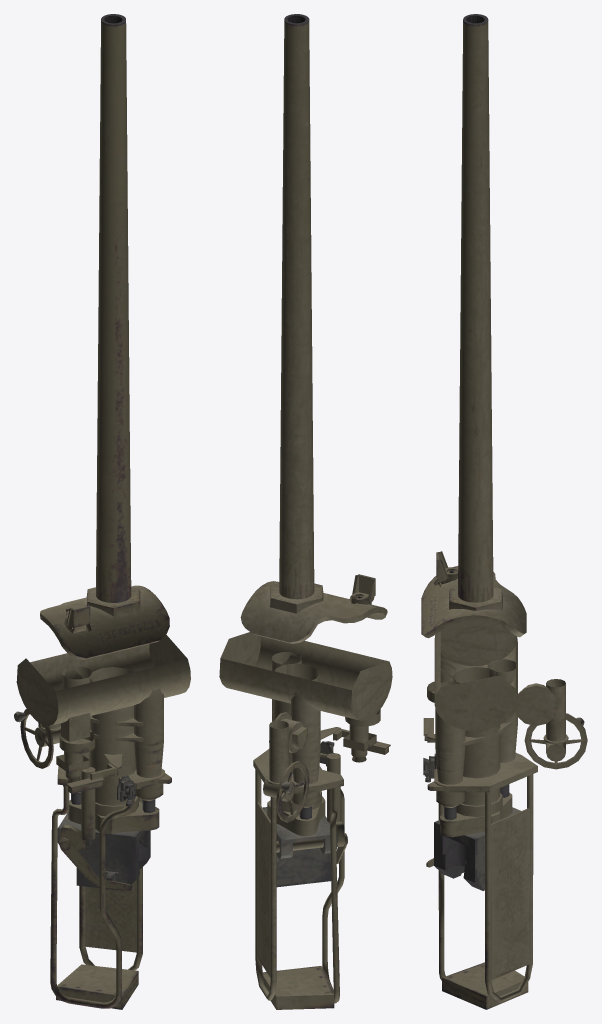
Rendered from Gun_02.glb.
3 renders of one model, left to right at view 1: azimuth 30°, elevation 25°; view 2: azimuth 150°, elevation 25°; view 3: azimuth 270°, elevation 25°, orthographic.
Parts seen in each view (by area): view 1: set_0_group_0; view 2: set_0_group_0; view 3: set_0_group_0.
Part boxes in pixels (bbox=[...]): set_0_group_0: bbox=[14, 14, 190, 1009]; set_0_group_0: bbox=[219, 14, 392, 1009]; set_0_group_0: bbox=[421, 14, 587, 1009].
Bounding box in the file's own units: 0.669 × 4.71 × 0.7274.
1 material, 1 textured.
